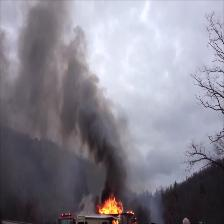fire: (102, 195, 124, 215)
smoke: (26, 40, 82, 122), (84, 127, 122, 173)
